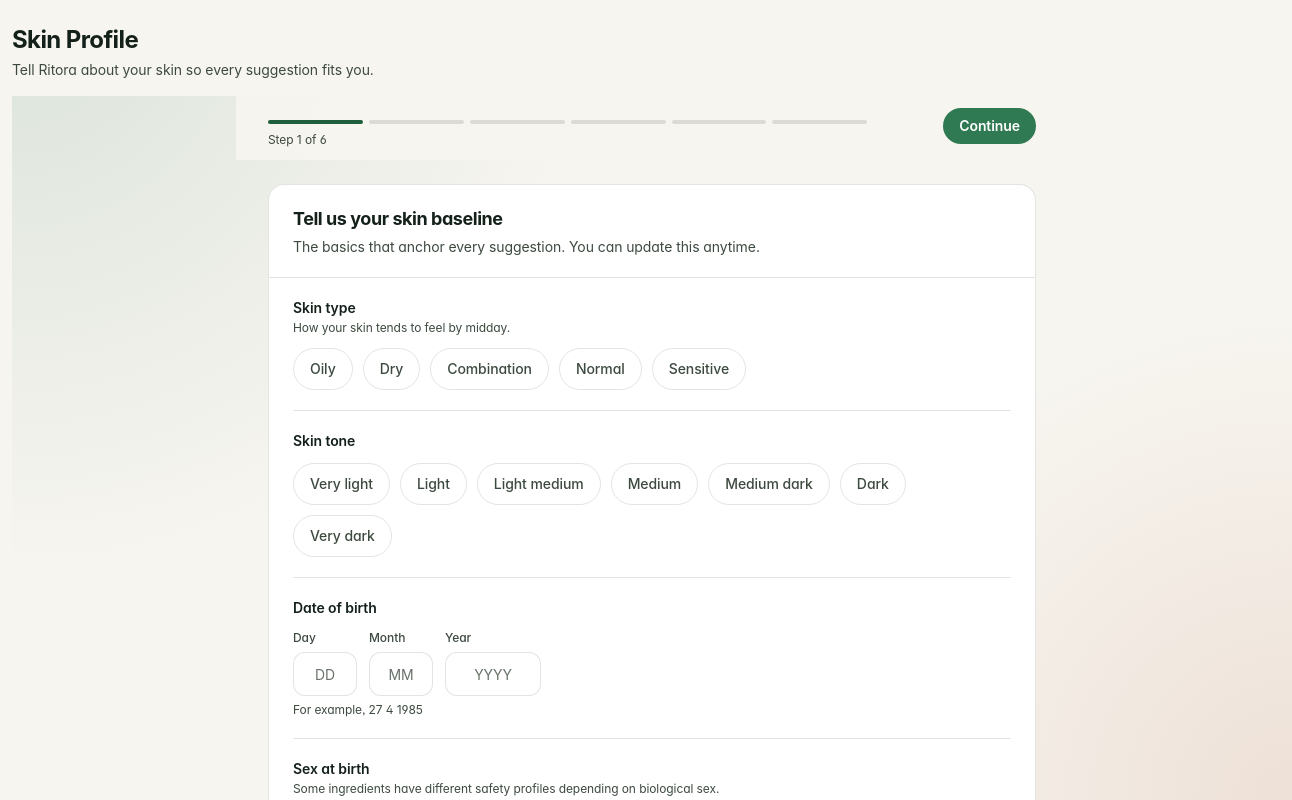
Test: SkinProfilePage › shows Zod validation messages when continuing with incomplete baseline
The image size is (1292, 800).
Click the button "Continue". click: coordinates (990, 126)
box: 943,108 -> 1036,144
(page scrolled)
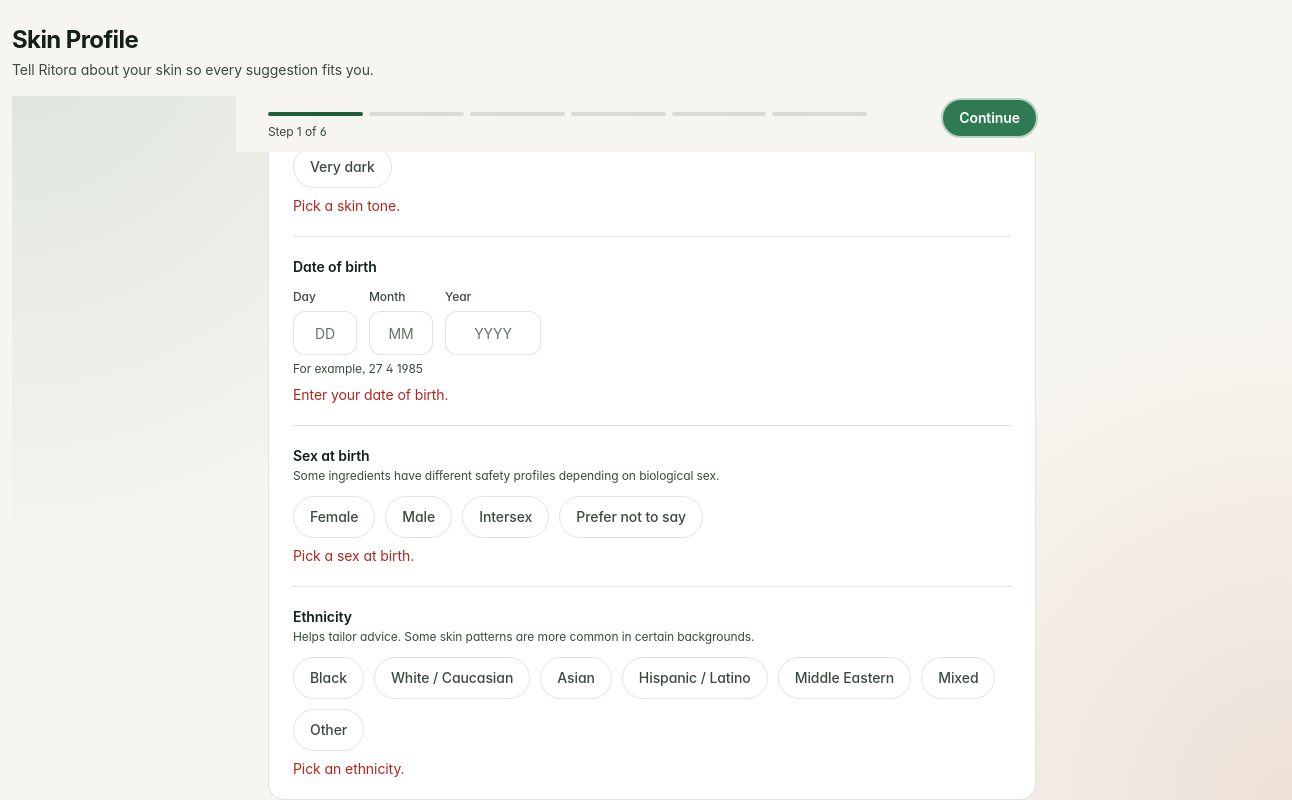
Now the text "Enter your date of birth." is shown, box 293,386 -> 448,403
Now the text "Pick a sex at birth." is shown, box 293,547 -> 414,564
